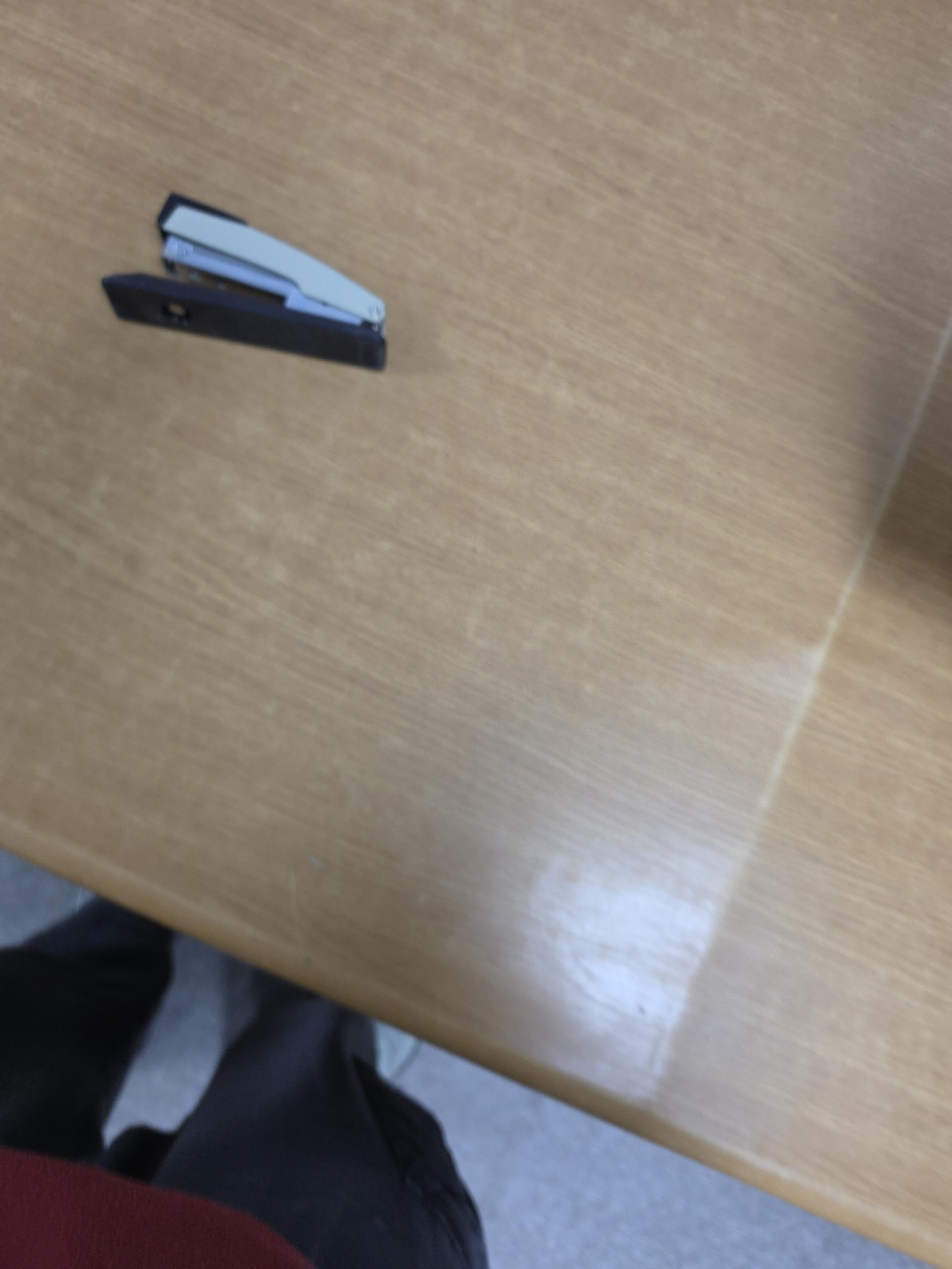stapler: (99, 191, 390, 371)
